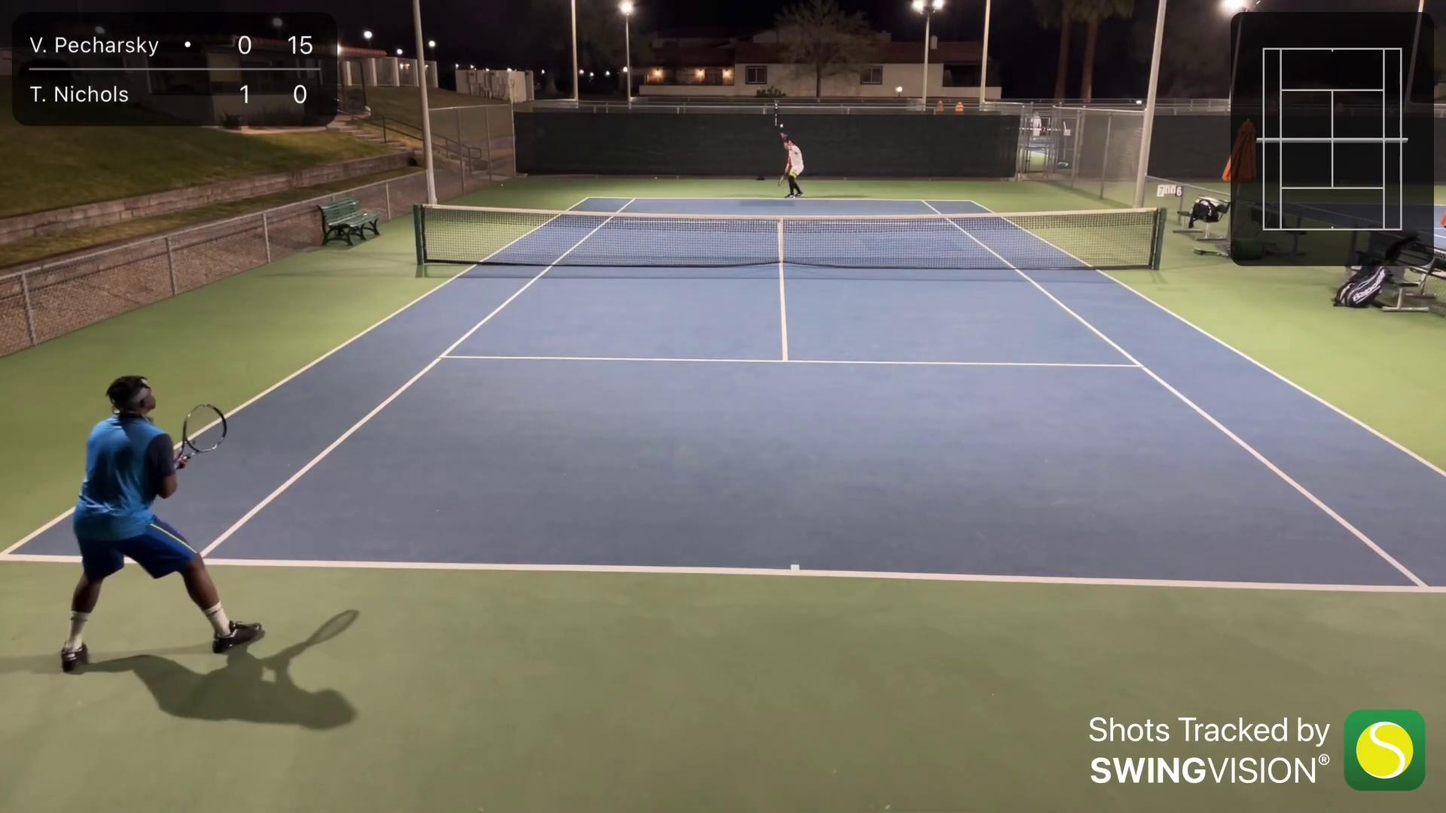ball: (497, 182, 505, 188), (778, 122, 785, 128)
